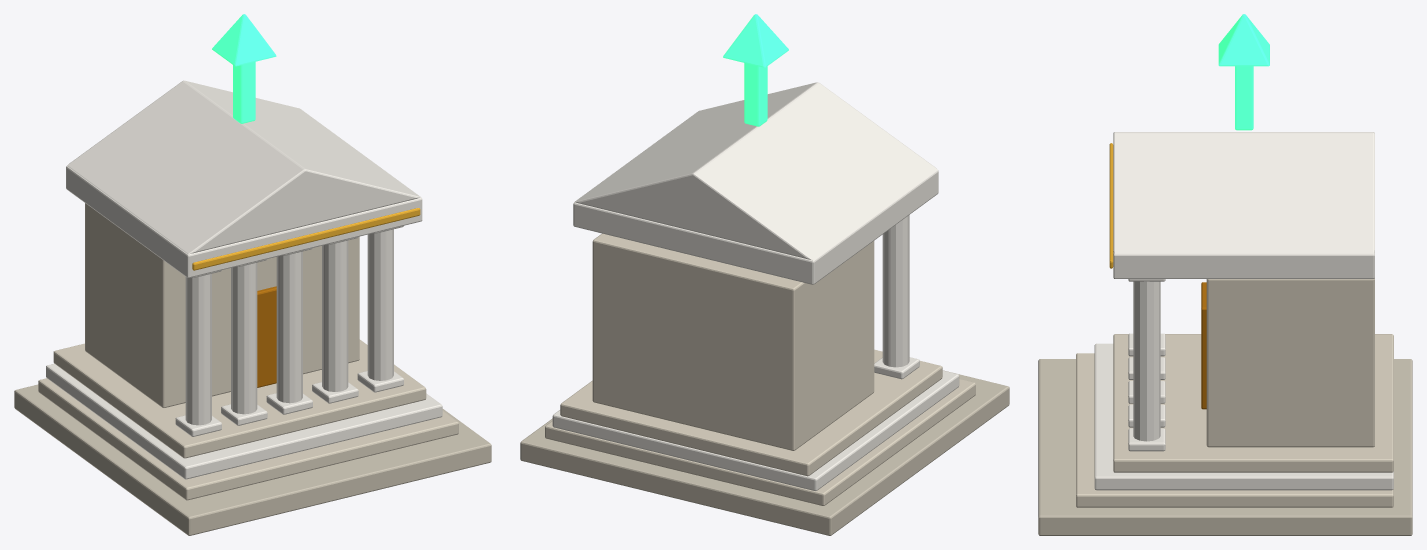
Rendered from stock.glb.
The picture shows the model from 3 angles, left to right: view 1: azimuth 30°, elevation 25°; view 2: azimuth 150°, elevation 25°; view 3: azimuth 270°, elevation 25°; orthographic projection. The views are drawn at different scales.
Visible parts, largest first — view 1: StockExchange; view 2: StockExchange; view 3: StockExchange.
Part boxes in pixels (x1,y1,x2,y2): StockExchange: (14, 14, 491, 535); StockExchange: (520, 14, 1009, 535); StockExchange: (1038, 14, 1412, 535).
Bounding box in the file's own units: 2 × 2.62 × 2.
